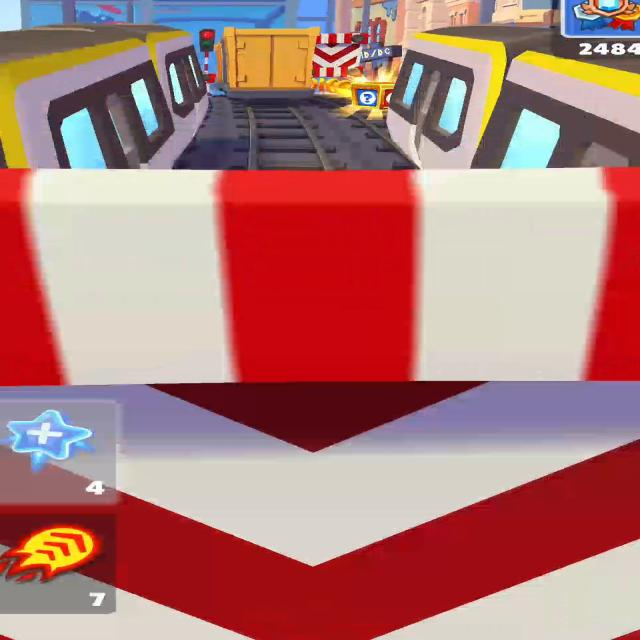jump-barrier: (312, 33, 367, 77)
train: (392, 31, 640, 299), (4, 30, 219, 290), (0, 23, 208, 169), (387, 26, 538, 168), (214, 28, 323, 105)
